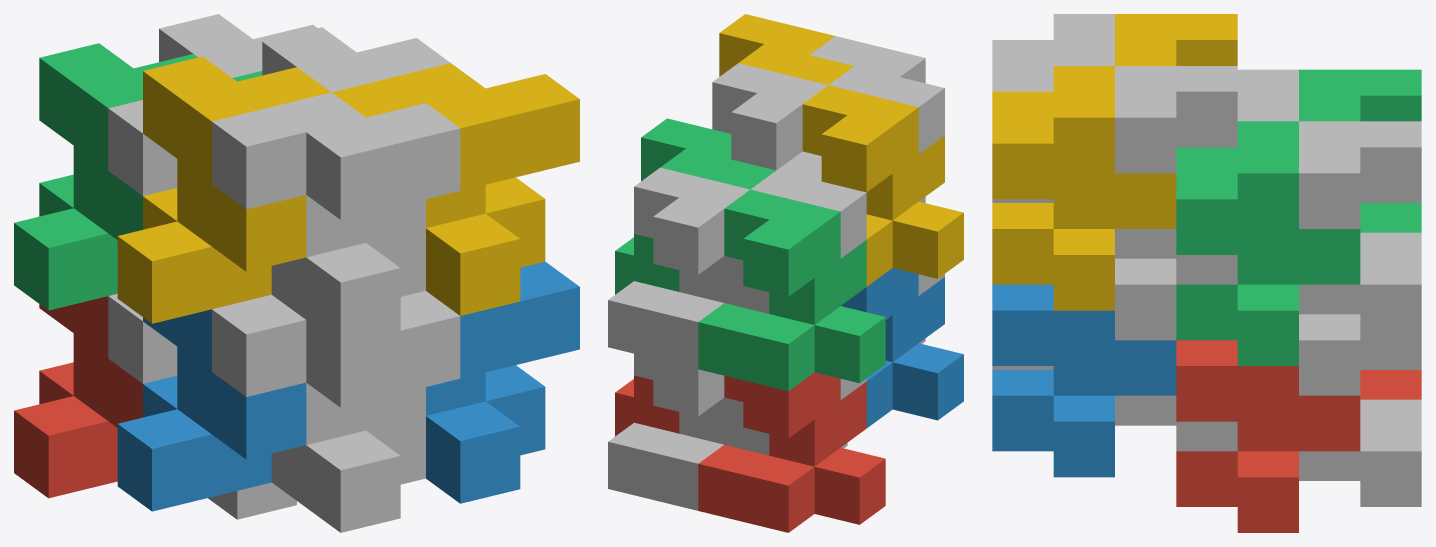
The model's file is tiling.obj.
The picture shows the model from 3 angles, left to right: view 1: azimuth 30°, elevation 25°; view 2: azimuth 150°, elevation 25°; view 3: azimuth 270°, elevation 25°; orthographic projection. The views are drawn at different scales.
Visible parts, largest first — view 1: copy_2_domain_4, copy_2_domain_2, copy_1_domain_4, copy_2_domain_8, copy_2_domain_6, copy_1_domain_3, copy_1_domain_2, copy_1_domain_1, copy_1_domain_8, copy_2_domain_1, copy_1_domain_7, copy_2_domain_3 (+1 smaller); view 2: copy_1_domain_3, copy_1_domain_1, copy_1_domain_4, copy_1_domain_7, copy_1_domain_5, copy_1_domain_2, copy_1_domain_8, copy_2_domain_7, copy_2_domain_4, copy_2_domain_3, copy_2_domain_8, copy_2_domain_5 (+1 smaller); view 3: copy_2_domain_8, copy_2_domain_7, copy_2_domain_6, copy_2_domain_5, copy_1_domain_7, copy_1_domain_5, copy_1_domain_8, copy_1_domain_6, copy_1_domain_3, copy_2_domain_4, copy_1_domain_4, copy_2_domain_3 (+1 smaller).
Part boxes in pixels (left/top/right/bottom): copy_2_domain_4: left=212, top=92, right=460, bottom=344; copy_2_domain_2: left=212, top=291, right=460, bottom=532; copy_1_domain_4: left=117, top=56, right=330, bottom=323; copy_2_domain_8: left=332, top=63, right=579, bottom=315; copy_2_domain_6: left=426, top=261, right=579, bottom=503; copy_1_domain_3: left=14, top=43, right=197, bottom=310; copy_1_domain_2: left=117, top=309, right=306, bottom=511; copy_1_domain_1: left=14, top=296, right=142, bottom=498; copy_1_domain_8: left=262, top=27, right=450, bottom=242; copy_2_domain_1: left=108, top=294, right=296, bottom=519; copy_1_domain_7: left=159, top=14, right=317, bottom=77; copy_2_domain_3: left=108, top=100, right=177, bottom=195; copy_1_domain_3: left=698, top=189, right=885, bottom=391; copy_1_domain_1: left=698, top=372, right=885, bottom=532; copy_1_domain_4: left=802, top=85, right=963, bottom=286; copy_1_domain_7: left=608, top=167, right=749, bottom=368; copy_1_domain_5: left=608, top=353, right=724, bottom=510; copy_1_domain_2: left=841, top=268, right=963, bottom=427; copy_1_domain_8: left=712, top=63, right=828, bottom=170; copy_2_domain_7: left=615, top=118, right=775, bottom=294; copy_2_domain_4: left=810, top=36, right=944, bottom=202; copy_2_domain_3: left=724, top=151, right=866, bottom=313; copy_2_domain_8: left=719, top=14, right=854, bottom=84; copy_2_domain_5: left=615, top=375, right=679, bottom=436; copy_2_domain_8: left=992, top=66, right=1176, bottom=310; copy_2_domain_7: left=1176, top=121, right=1360, bottom=365; copy_2_domain_6: left=992, top=284, right=1176, bottom=477; copy_2_domain_5: left=1176, top=340, right=1360, bottom=532; copy_1_domain_7: left=1299, top=121, right=1421, bottom=340; copy_1_domain_5: left=1299, top=314, right=1421, bottom=506; copy_1_domain_8: left=1115, top=66, right=1237, bottom=284; copy_1_domain_6: left=1115, top=258, right=1237, bottom=451; copy_1_domain_3: left=1299, top=69, right=1421, bottom=232; copy_2_domain_4: left=992, top=14, right=1114, bottom=202; copy_1_domain_4: left=1115, top=14, right=1237, bottom=65; copy_2_domain_3: left=1237, top=69, right=1298, bottom=121.
Bounding box in the file's own units: 6 × 7 × 7.
